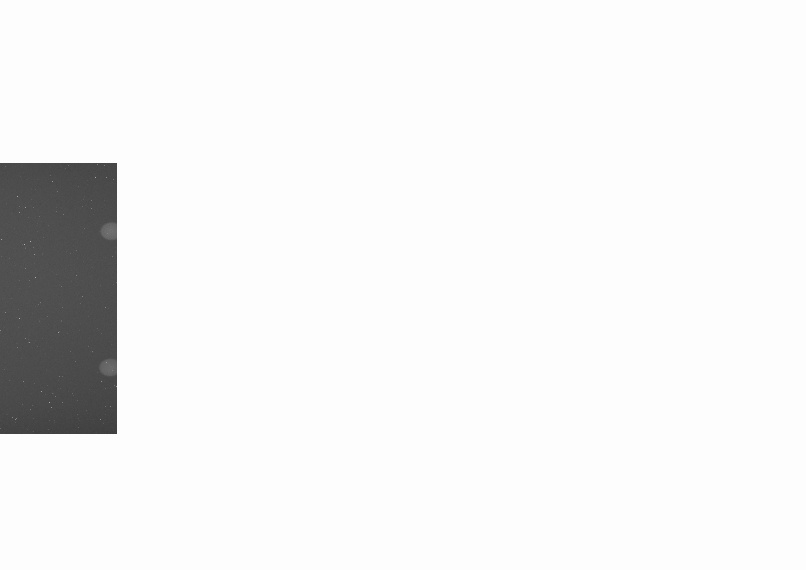bubble: (98, 357, 117, 377), (100, 221, 116, 241)
